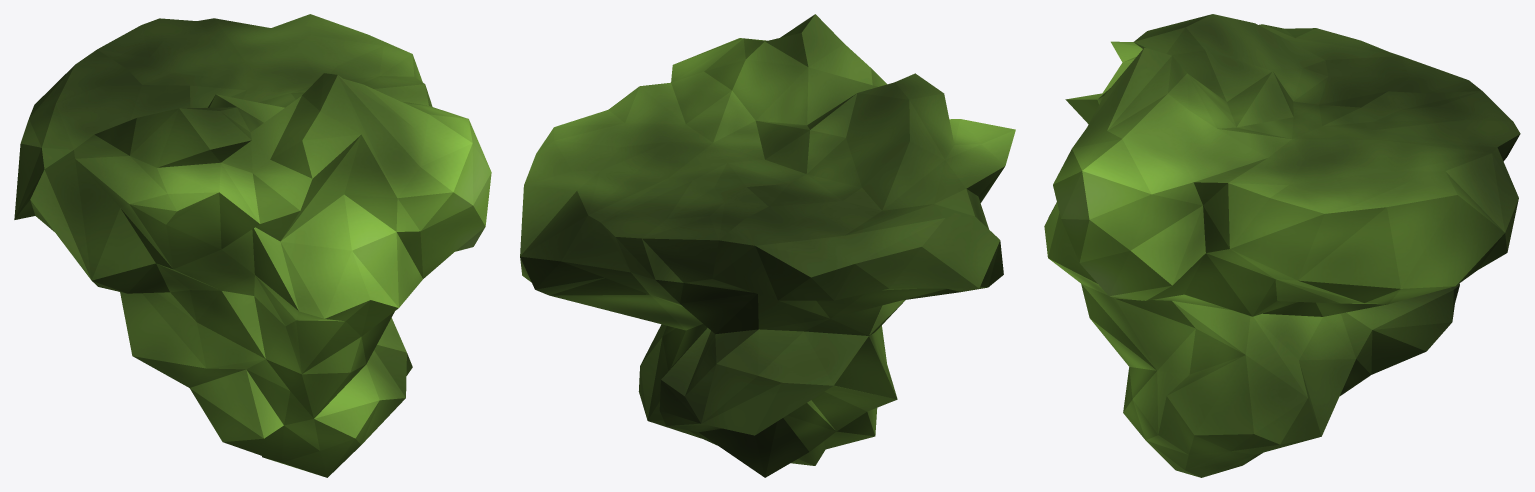
Rendered from Island.fbx.
3 renders of one model, left to right at view 1: azimuth 30°, elevation 25°; view 2: azimuth 150°, elevation 25°; view 3: azimuth 270°, elevation 25°, orthographic. The views are drawn at different scales.
Visible parts, largest first — view 1: Island; view 2: Island; view 3: Island.
Part boxes in pixels (box(x1,y1,x2,y2)): Island: box(14, 14, 491, 477); Island: box(520, 14, 1015, 477); Island: box(1044, 14, 1520, 477).
Size of the model in its own units: 213 by 208 by 213.
Materials: 1 (1 with a texture image).
